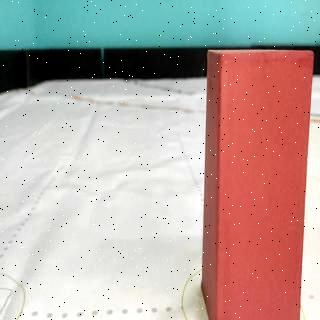redbox: (200, 47, 314, 320)
